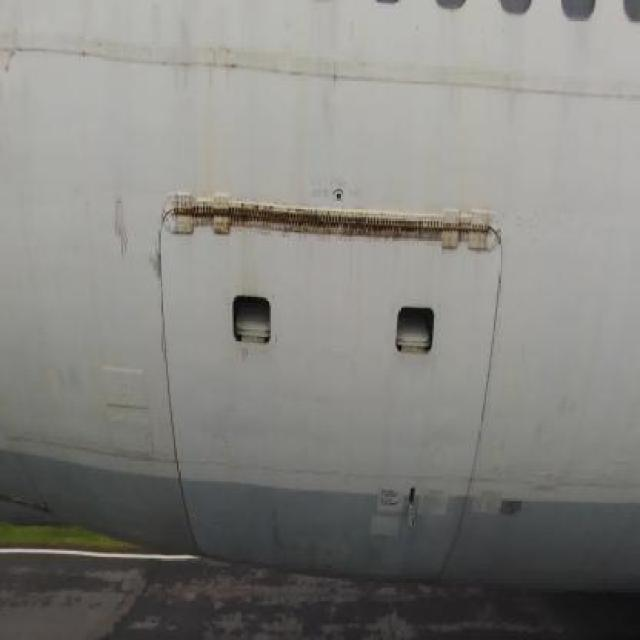Scartch: (206, 116, 346, 250)
